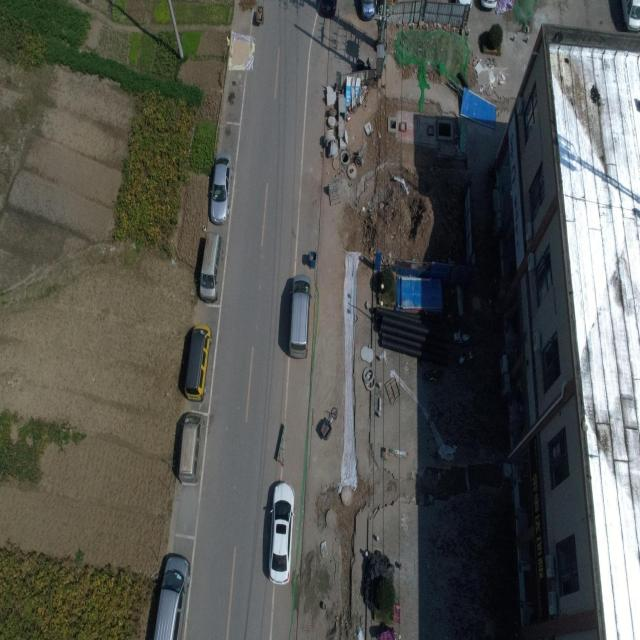p3rson: (456, 352, 465, 368)
